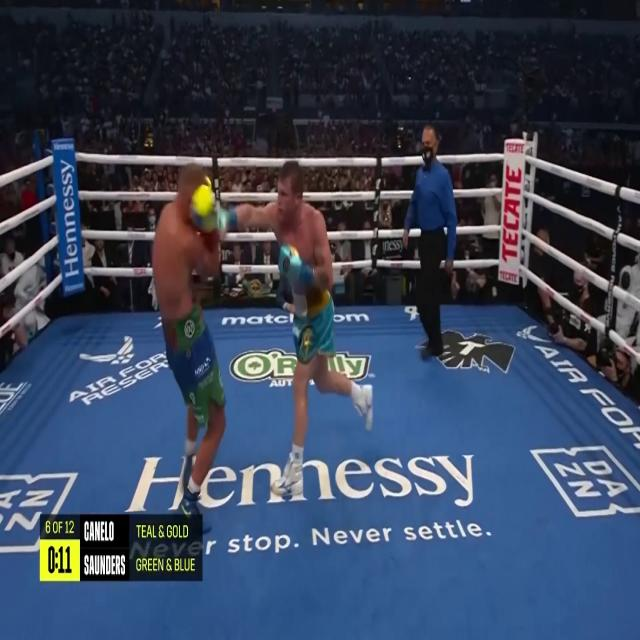boxer_1: (153, 158, 204, 321)
boxer_2: (276, 160, 317, 267)
gloves_1: (190, 183, 221, 252)
gloves_2: (276, 243, 312, 293), (219, 206, 237, 241)
